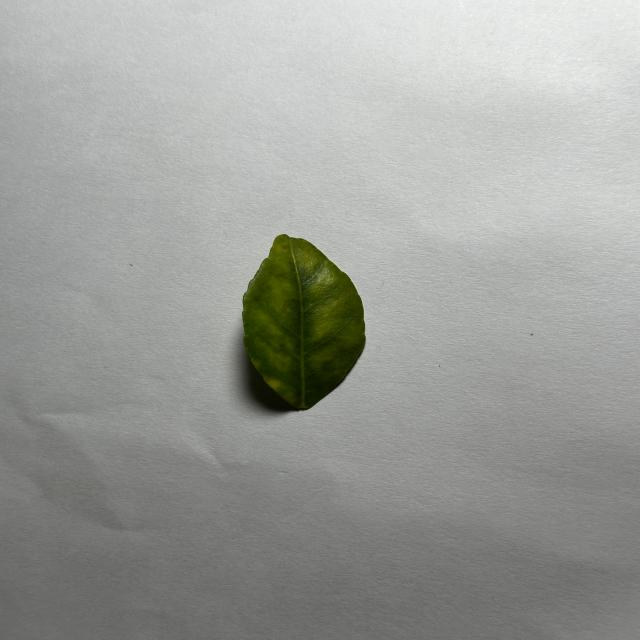greening: (242, 234, 365, 409)
